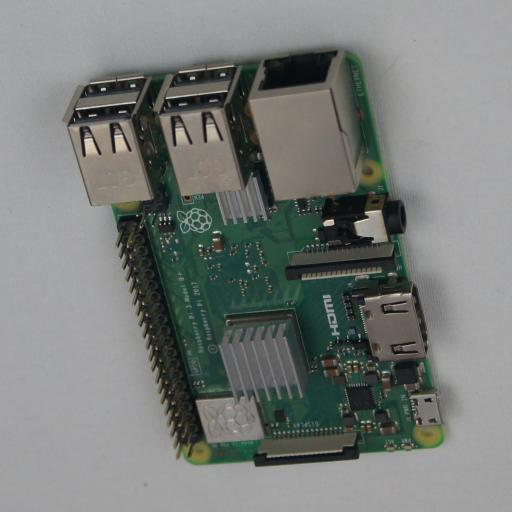Raspberry Pi 3 B-: (67, 46, 443, 466)
